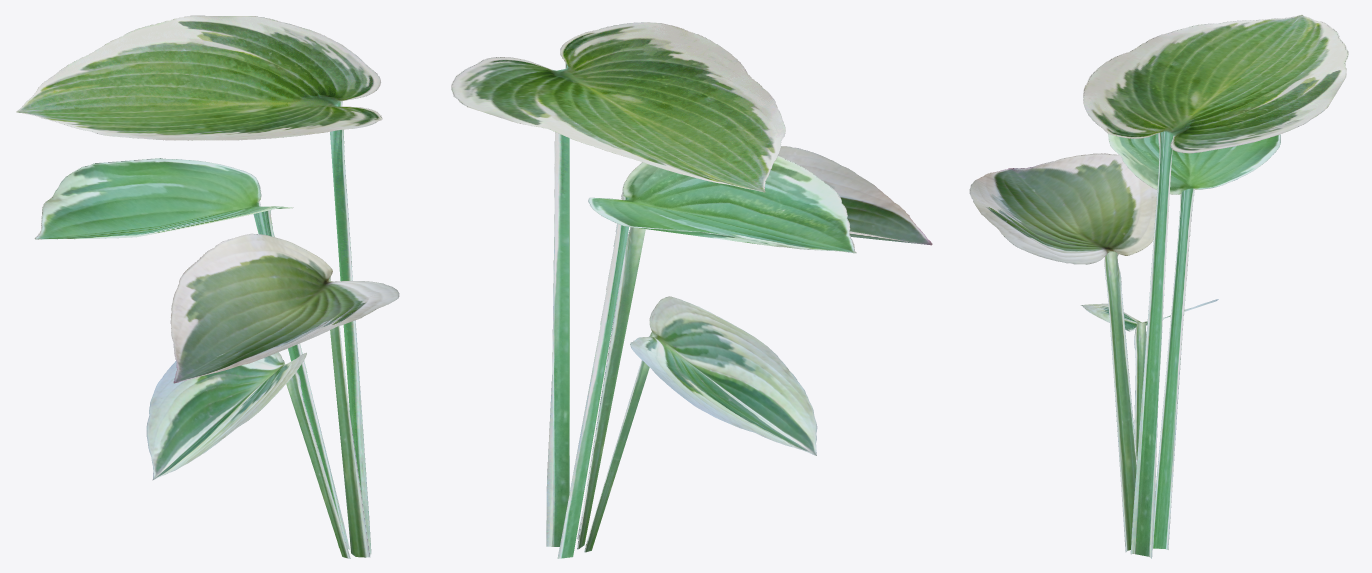
Rendered from plant_small_wg_00_line_filler_05.fbx.
3 renders of one model, left to right at view 1: azimuth 30°, elevation 25°; view 2: azimuth 150°, elevation 25°; view 3: azimuth 270°, elevation 25°, orthographic. The views are drawn at different scales.
Parts seen in each view (by area): view 1: plant_small_wg_00_line_filler_05; view 2: plant_small_wg_00_line_filler_05; view 3: plant_small_wg_00_line_filler_05.
Part boxes in pixels (left/top/right/bottom): plant_small_wg_00_line_filler_05: left=16, top=15, right=399, bottom=558; plant_small_wg_00_line_filler_05: left=451, top=22, right=932, bottom=558; plant_small_wg_00_line_filler_05: left=969, top=15, right=1348, bottom=558.
Size of the model in its own units: 26.52 by 34.82 by 27.62.
Materials: 1 (1 with a texture image).
